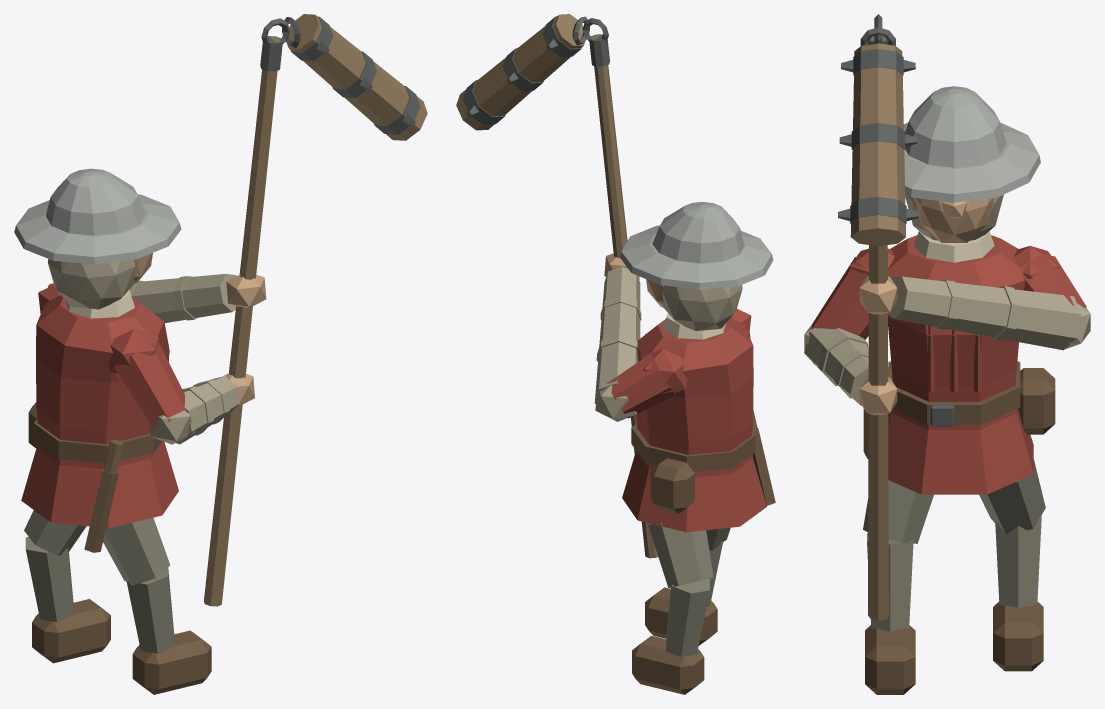
The model's file is infantry_flail.glb.
The picture shows the model from 3 angles, left to right: view 1: azimuth 30°, elevation 25°; view 2: azimuth 150°, elevation 25°; view 3: azimuth 270°, elevation 25°; orthographic projection. The views are drawn at different scales.
Parts seen in each view (by area): view 1: infantry_flail_team_cloth, infantry_flail_oak, infantry_flail_steel, infantry_flail_leather, infantry_flail_padded_linen, infantry_flail_hose, infantry_flail_iron, infantry_flail_skin, infantry_flail_linen; view 2: infantry_flail_team_cloth, infantry_flail_leather, infantry_flail_steel, infantry_flail_padded_linen, infantry_flail_oak, infantry_flail_hose, infantry_flail_iron, infantry_flail_linen, infantry_flail_skin; view 3: infantry_flail_team_cloth, infantry_flail_oak, infantry_flail_padded_linen, infantry_flail_steel, infantry_flail_leather, infantry_flail_hose, infantry_flail_iron, infantry_flail_skin, infantry_flail_linen.
Part boxes in pixels (bbox=[...]): infantry_flail_team_cloth: bbox=[21, 283, 186, 528]; infantry_flail_oak: bbox=[204, 14, 427, 606]; infantry_flail_steel: bbox=[14, 168, 181, 264]; infantry_flail_leather: bbox=[28, 402, 211, 694]; infantry_flail_padded_linen: bbox=[47, 259, 239, 444]; infantry_flail_hose: bbox=[24, 510, 174, 653]; infantry_flail_iron: bbox=[260, 16, 420, 134]; infantry_flail_skin: bbox=[133, 253, 266, 405]; infantry_flail_linen: bbox=[65, 290, 134, 318]; infantry_flail_team_cloth: bbox=[607, 308, 766, 532]; infantry_flail_leather: bbox=[631, 424, 775, 694]; infantry_flail_steel: bbox=[620, 202, 773, 289]; infantry_flail_padded_linen: bbox=[594, 267, 753, 421]; infantry_flail_oak: bbox=[456, 14, 658, 558]; infantry_flail_hose: bbox=[648, 522, 730, 657]; infantry_flail_iron: bbox=[463, 16, 609, 124]; infantry_flail_linen: bbox=[662, 313, 726, 339]; infantry_flail_skin: bbox=[604, 253, 664, 307]; infantry_flail_team_cloth: bbox=[811, 235, 1086, 494]; infantry_flail_oak: bbox=[850, 36, 905, 620]; infantry_flail_padded_linen: bbox=[804, 194, 1090, 405]; infantry_flail_steel: bbox=[904, 86, 1040, 202]; infantry_flail_leather: bbox=[863, 361, 1055, 694]; infantry_flail_hose: bbox=[863, 455, 1045, 631]; infantry_flail_iron: bbox=[838, 14, 954, 426]; infantry_flail_skin: bbox=[859, 198, 994, 415]; infantry_flail_linen: bbox=[914, 231, 994, 262].
Size of the model in its own units: 1.4 by 2.35 by 0.8501.
